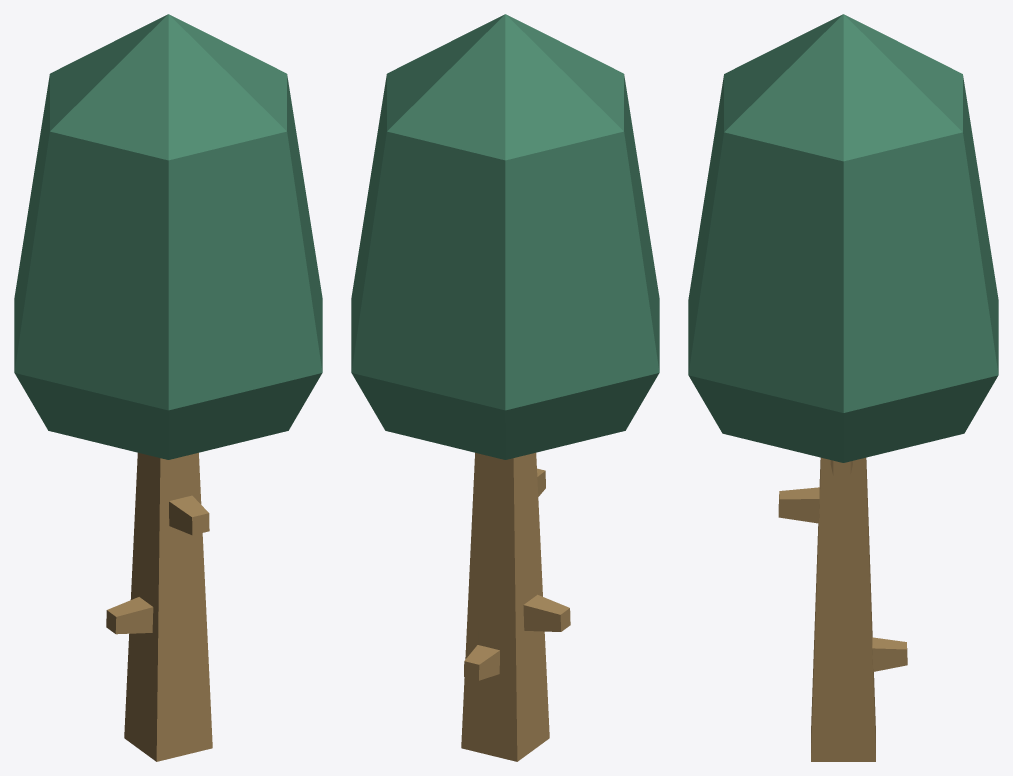
The model's file is naturePack_070.obj.
The picture shows the model from 3 angles, left to right: view 1: azimuth 30°, elevation 25°; view 2: azimuth 150°, elevation 25°; view 3: azimuth 270°, elevation 25°; orthographic projection.
Parts seen in each view (by area): view 1: Mesh1_Large_Oak_Dark_Model.002; view 2: Mesh1_Large_Oak_Dark_Model.002; view 3: Mesh1_Large_Oak_Dark_Model.002.
Boxes of the visible parts, x1=… form: Mesh1_Large_Oak_Dark_Model.002: x1=14, y1=14, x2=322, y2=761; Mesh1_Large_Oak_Dark_Model.002: x1=351, y1=14, x2=659, y2=761; Mesh1_Large_Oak_Dark_Model.002: x1=688, y1=14, x2=998, y2=761.
Bounding box in the file's own units: 3.02 × 6.83 × 2.62.
